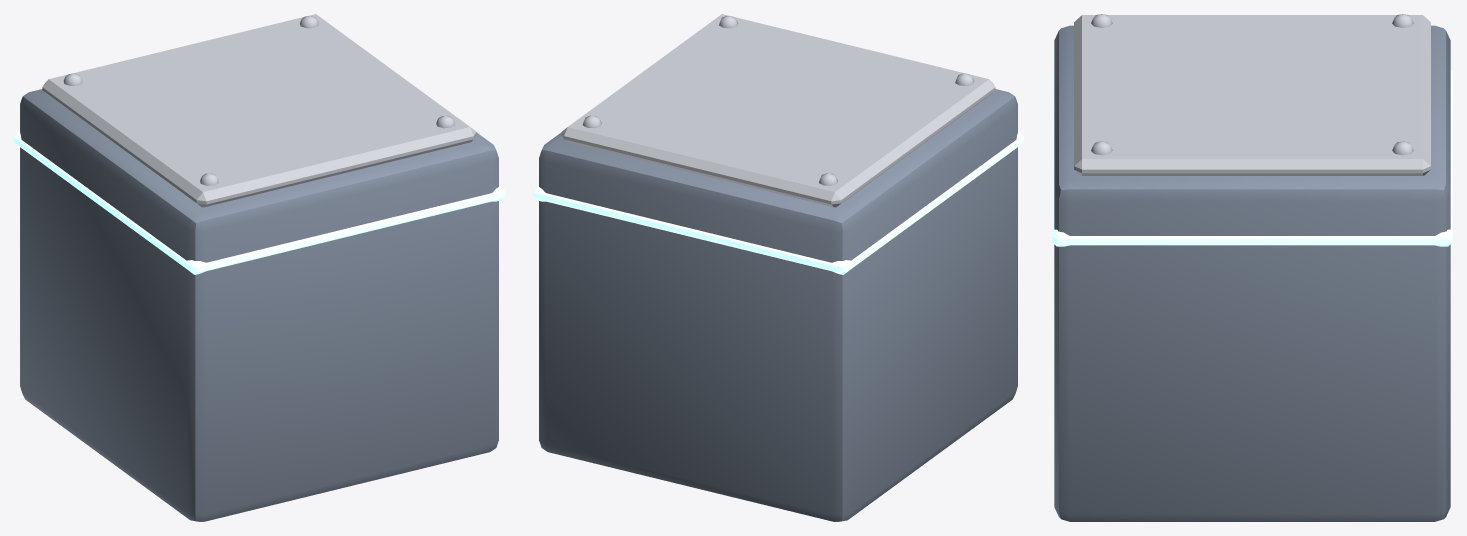
Rendered from wall_factory.glb.
The picture shows the model from 3 angles, left to right: view 1: azimuth 30°, elevation 25°; view 2: azimuth 150°, elevation 25°; view 3: azimuth 270°, elevation 25°; orthographic projection. The views are drawn at different scales.
Visible parts, largest first — view 1: wall_factory; view 2: wall_factory; view 3: wall_factory.
Part boxes in pixels (x1,y1,x2,y2): wall_factory: (14,14,504,521); wall_factory: (533,14,1023,521); wall_factory: (1052,14,1452,521).
Bounding box in the file's own units: 1.01 × 1.02 × 1.01.
